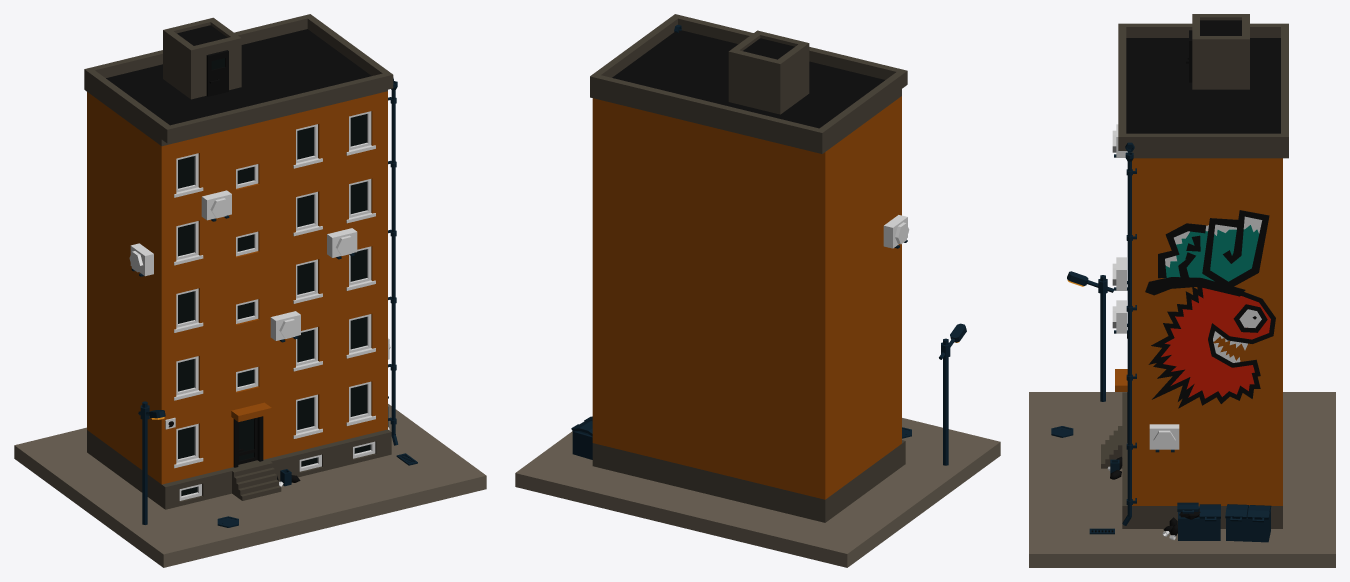
Rendered from SF_Modern Building 09.fbx.
3 views of the same model, side by side, from view 1: azimuth 30°, elevation 25°; view 2: azimuth 150°, elevation 25°; view 3: azimuth 270°, elevation 25° (orthographic). The views are drawn at different scales.
Visible parts, largest first — view 1: Box16195, Box16201, Group711, Box16199, Box16198, Box16202, Cylinder1744, StraightStair019, Box16197, street_light_036, Box16684, Box16685 (+2 smaller); view 2: Box16195, Box16201, Group711, Box16198, Box16202, street_light_036, Box16686; view 3: Box16195, Box16201, Group711, Line474, Box16202, Line471, Line468, Line470, Box16198, Cylinder1744, street_light_036, Line469 (+9 smaller).
Part boxes in pixels (x1,y1,x2,y2): Box16195: (87,91,387,484); Box16201: (14,404,486,567); Group711: (84,14,393,467); Box16199: (174,111,375,500); Box16198: (87,429,391,509); Box16202: (163,17,241,99); Cylinder1744: (388,78,398,445); StraightStair019: (232,461,281,500); Box16197: (206,50,228,96); street_light_036: (138,401,165,524); Box16684: (270,311,300,342); Box16685: (201,190,231,221); Box16195: (592,96,901,499); Box16201: (515,418,1000,567); Group711: (590,14,907,153); Box16198: (592,440,905,522); Box16202: (728,30,809,114); street_light_036: (939,323,966,465); Box16686: (883,215,909,248); Box16195: (1115,158,1282,505); Box16201: (1029,392,1335,567); Group711: (1118,23,1288,442); Line474: (1161,288,1270,398); Box16202: (1192,14,1249,89); Line471: (1148,287,1275,408); Line468: (1158,210,1269,289); Line470: (1165,225,1259,281); Box16198: (1122,392,1282,528); Cylinder1744: (1122,142,1136,525); street_light_036: (1067,271,1113,401); Line469: (1145,277,1245,296).
Size of the model in its own units: 1500 by 1923 by 1200.
